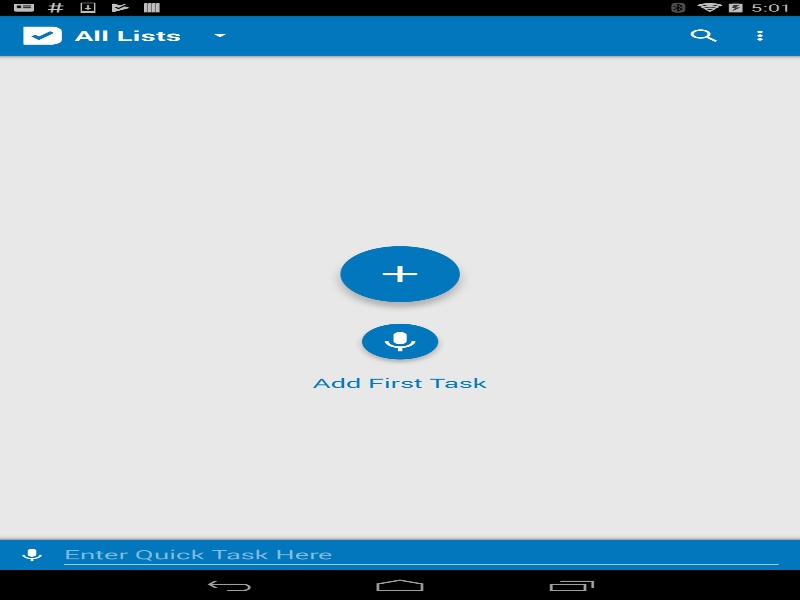Input: (58, 540, 784, 570)
